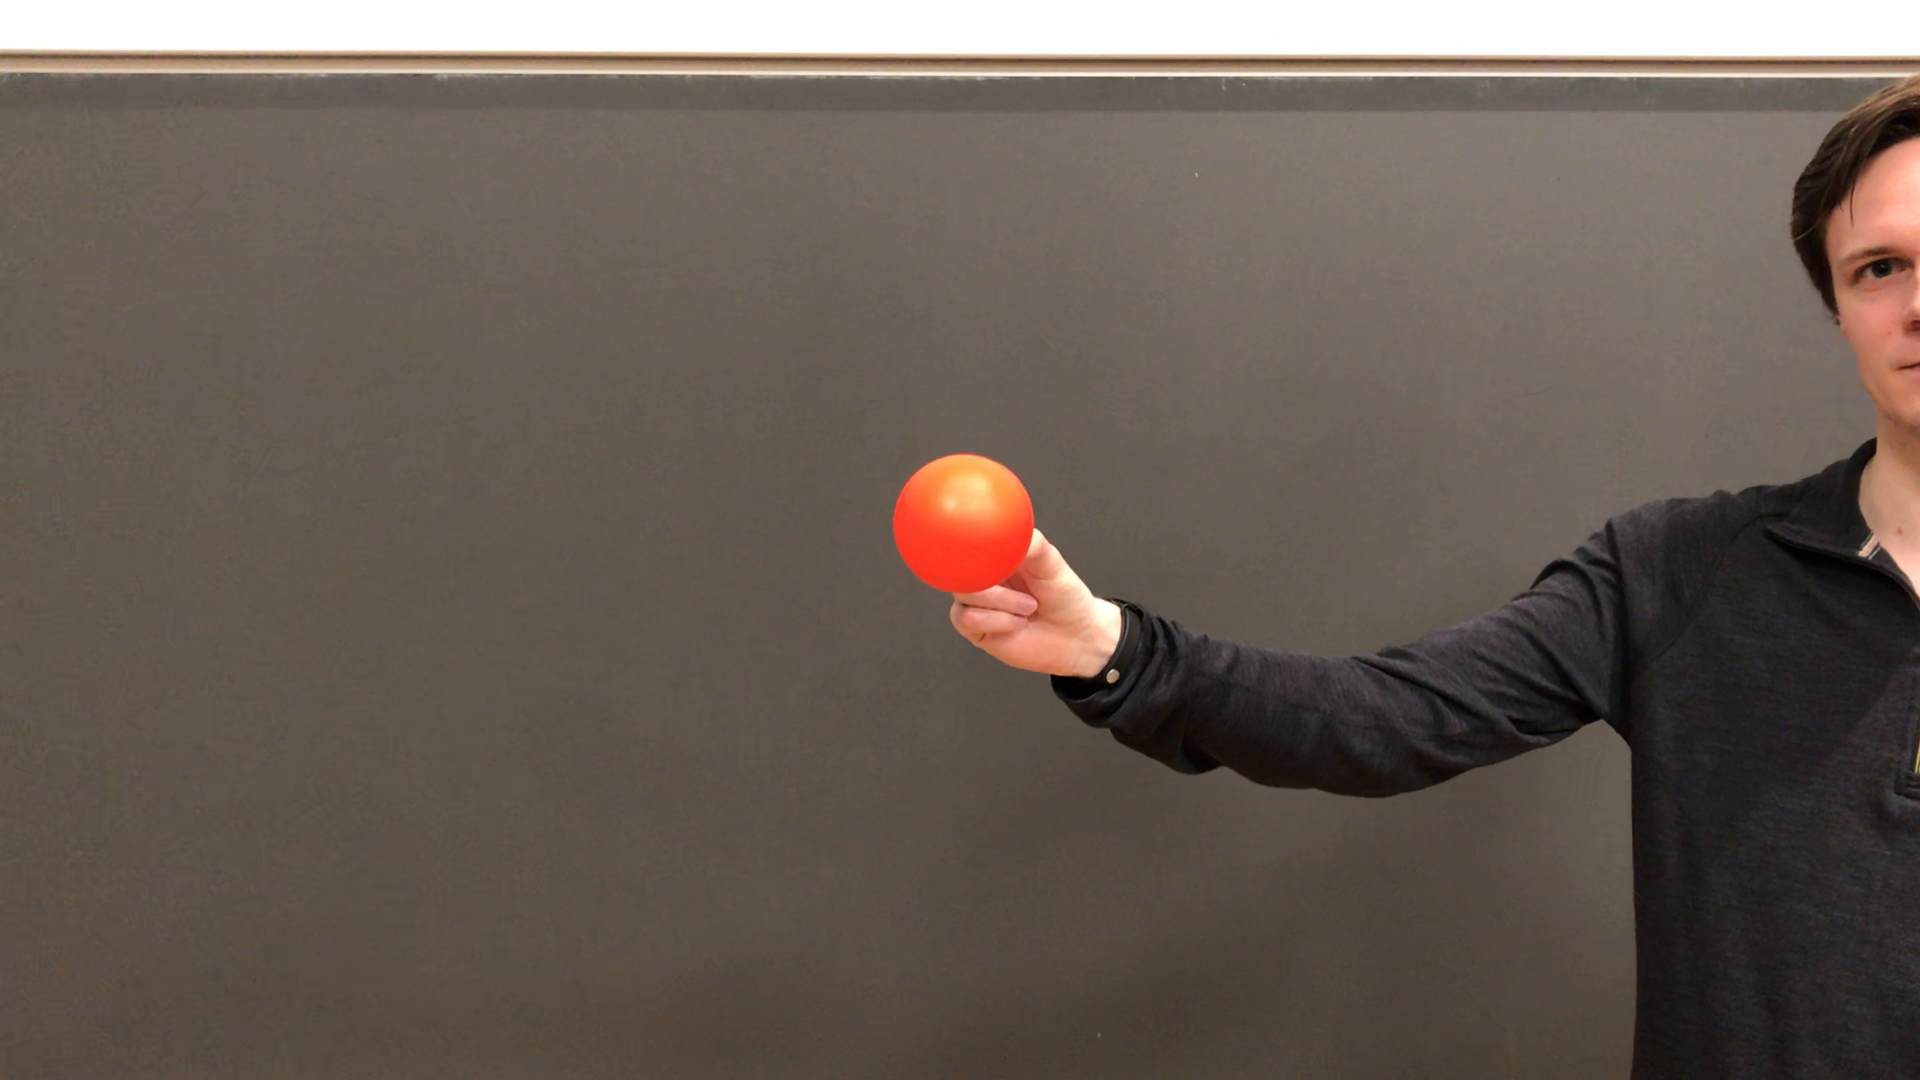Ball: (891, 454, 1034, 596)
